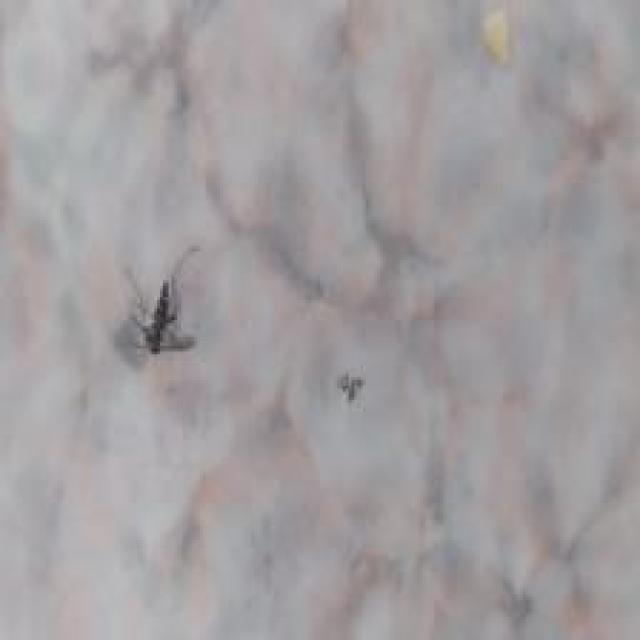Aedes albopictus: (121, 244, 202, 356)
